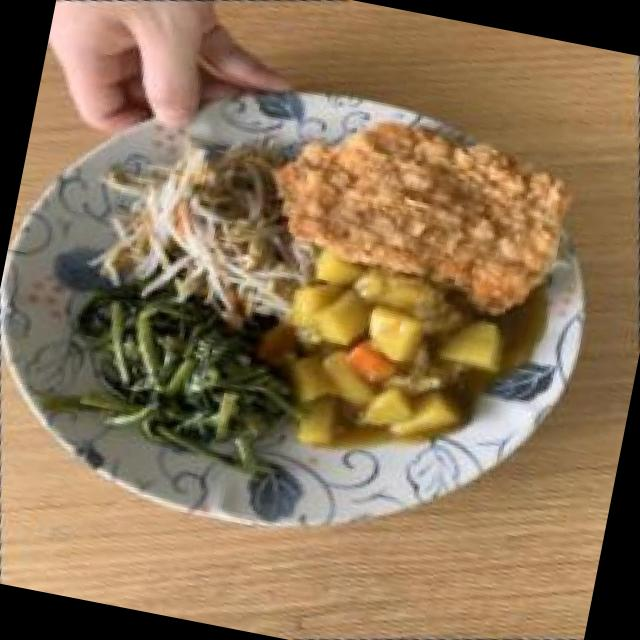curry: (239, 213, 572, 493)
fried_chicken: (274, 90, 582, 318)
mung_bean_sprouts: (95, 120, 307, 322)
water_spinach: (67, 277, 298, 478)
